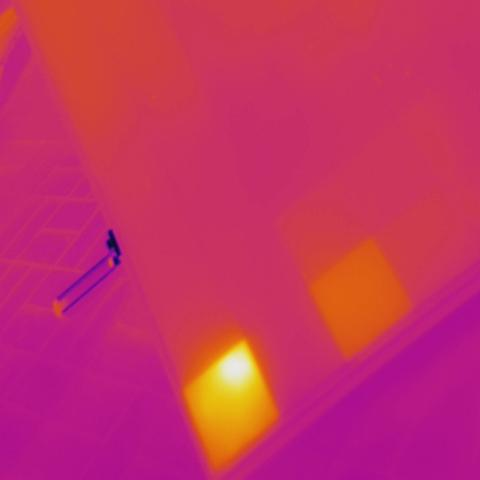fault: (176, 333, 286, 476)
